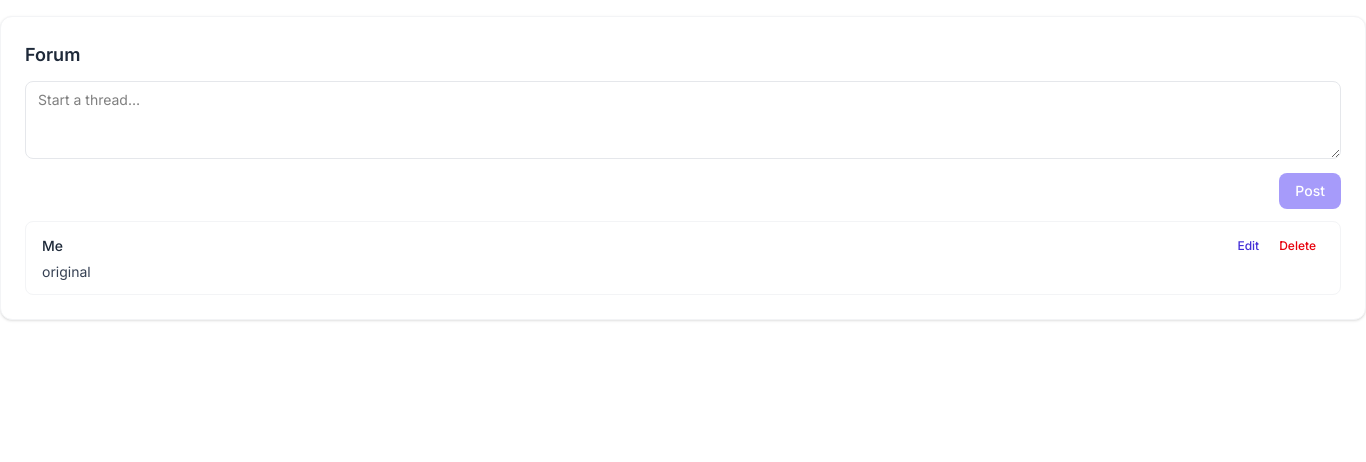
Test: GroupForumSection — own-edit window (FEAT-H028 STORY-4) › surfaces a server refusal honestly and preserves the draft edit (TASK-EDT-01: the window refusal is gone; the coverage stays)
The width and height of the screenshot is (1366, 462).
Expected: the text "original" is shown, [42, 263, 91, 280]
Click the button with test id "forum-edit-p1" at (1248, 246), box [1229, 234, 1267, 258]
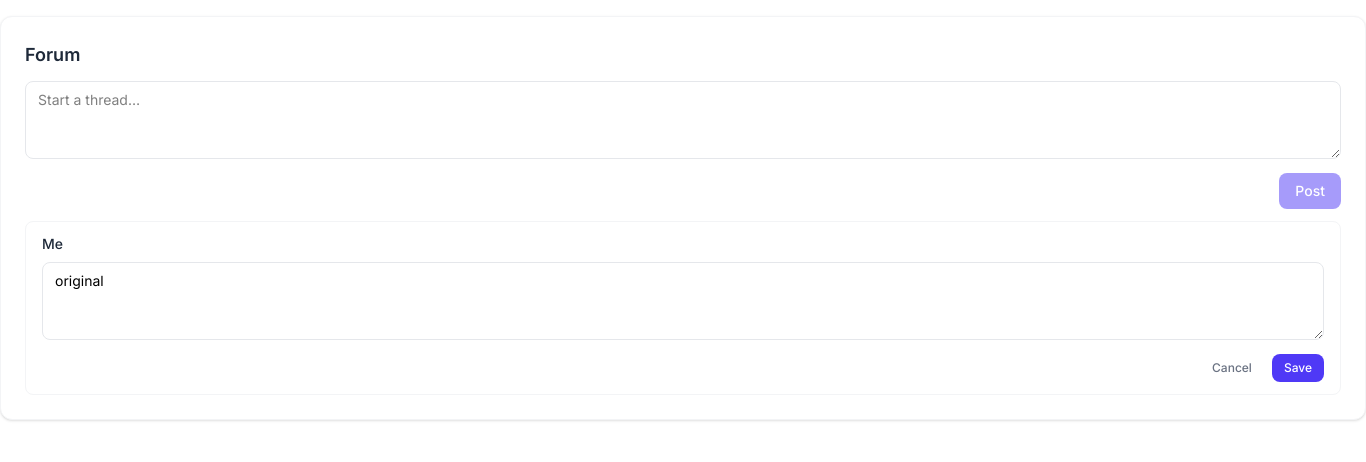
Replace the text in the text box with test id "forum-edit-input-p1" with "my draft edit" at (683, 301), box [42, 262, 1324, 340]
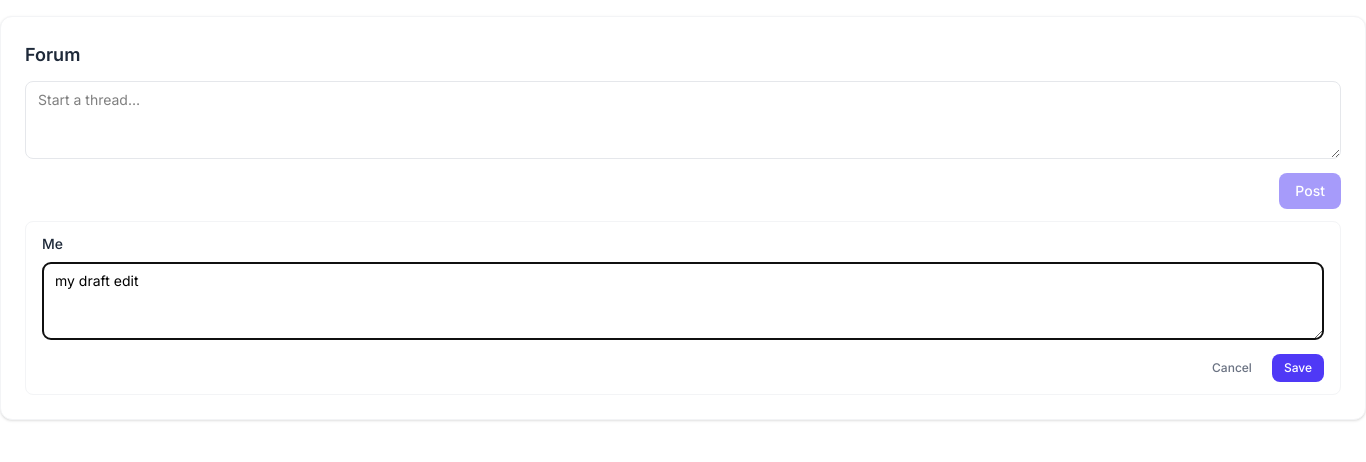
Click the button with test id "forum-edit-save-p1" at (1298, 368), box [1272, 354, 1324, 382]
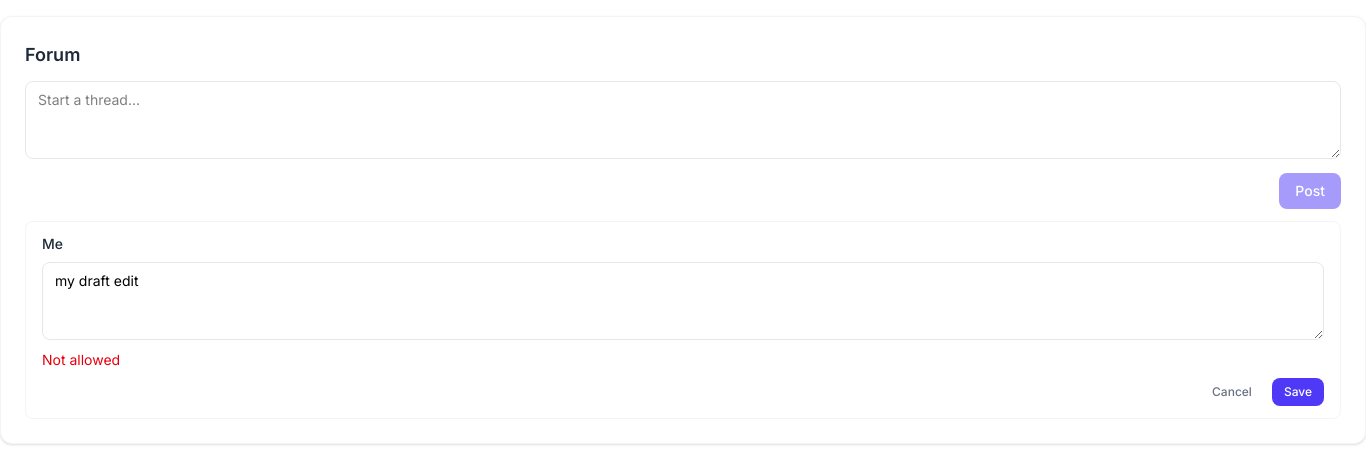
Expected: the message reads "Not allowed", [42, 351, 120, 368]
